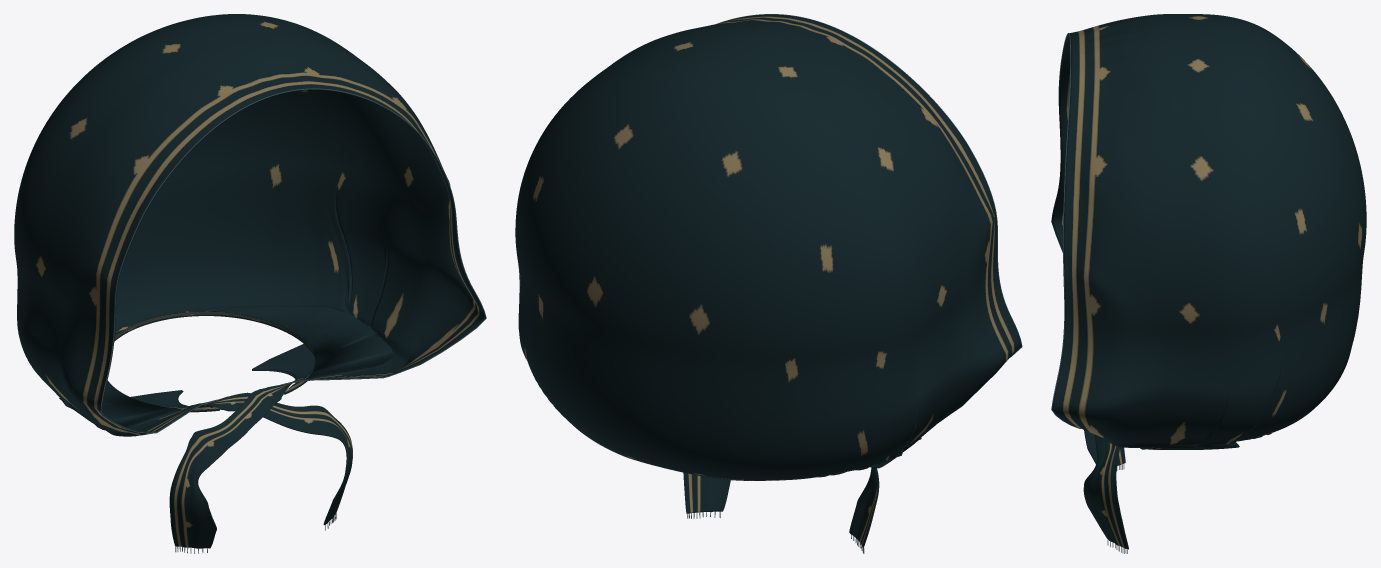
File: Feminine-curls-open-pashmina250-headgear.glb
3 views of the same model, side by side, from view 1: azimuth 30°, elevation 25°; view 2: azimuth 150°, elevation 25°; view 3: azimuth 270°, elevation 25° (orthographic). The views are drawn at different scales.
Visible parts, largest first — view 1: 226 headgear / Headwear / continuous woven pashmina239, 226 headgear / Headwear / face edge239; view 2: 226 headgear / Headwear / continuous woven pashmina239, 226 headgear / Headwear / face edge239; view 3: 226 headgear / Headwear / continuous woven pashmina239, 226 headgear / Headwear / face edge239.
Boxes of the visible parts, x1,y1,x2,y2 form: 226 headgear / Headwear / continuous woven pashmina239: (14, 14, 485, 548); 226 headgear / Headwear / face edge239: (100, 88, 486, 433); 226 headgear / Headwear / continuous woven pashmina239: (515, 14, 1021, 547); 226 headgear / Headwear / face edge239: (717, 14, 1022, 357); 226 headgear / Headwear / continuous woven pashmina239: (1051, 14, 1366, 549); 226 headgear / Headwear / face edge239: (1051, 33, 1080, 428).
Size of the model in its own units: 1.21 by 1.4 by 0.8339.
3 materials, 1 textured.
